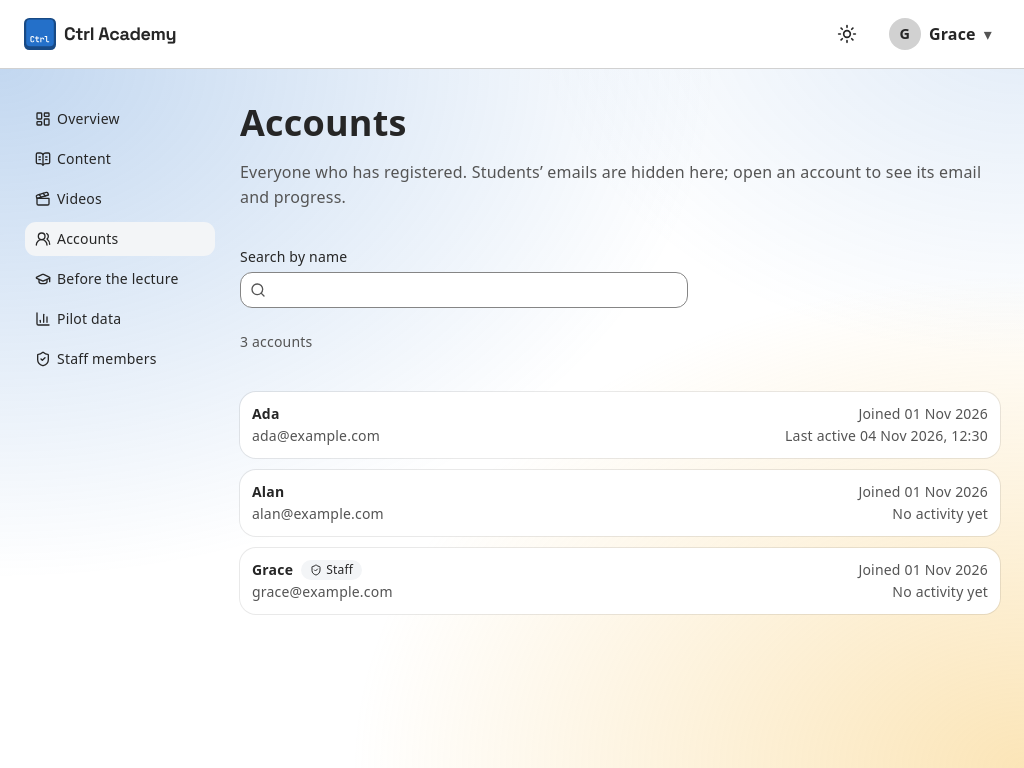
Test: accounts pages › lists every account and narrows it as you type
Expected: the text "3 accounts" is shown, [240, 332, 312, 351]
Type "ALAN" into the search field labelled "Search by name" at {"x": 464, "y": 290}, box [240, 272, 688, 308]
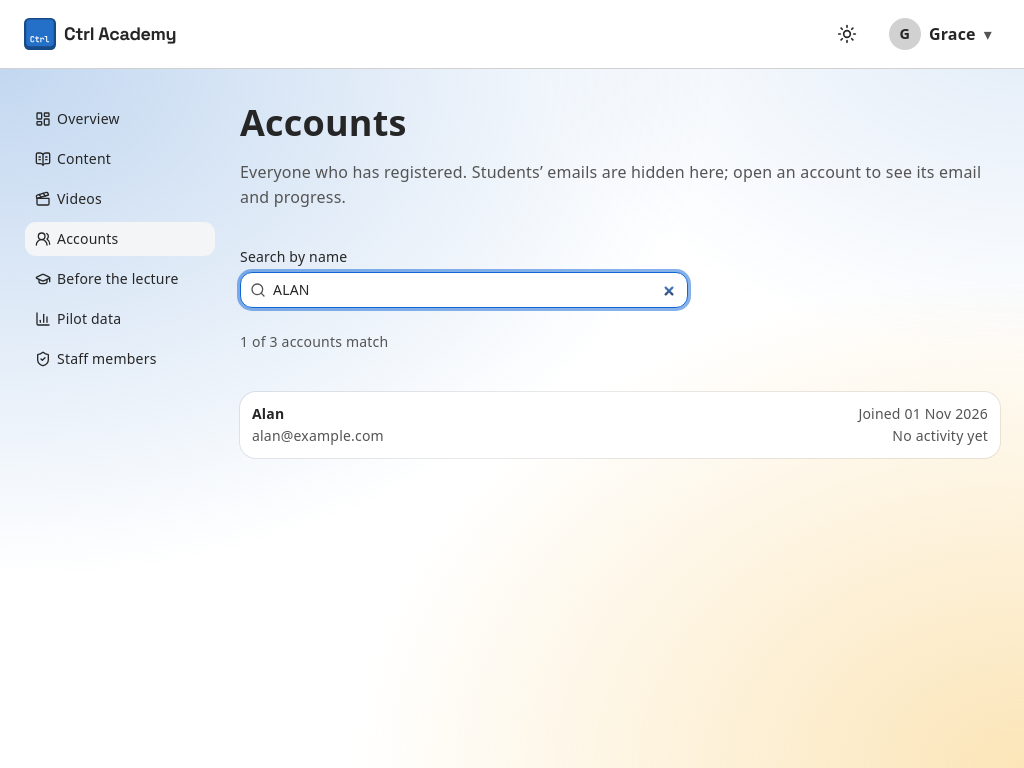
Expected: the link "Alan" is shown, [252, 404, 284, 424]
Result: the text "1 of 3 accounts match" is shown at [240, 332, 388, 351]
Result: the link "Ada" is gone
